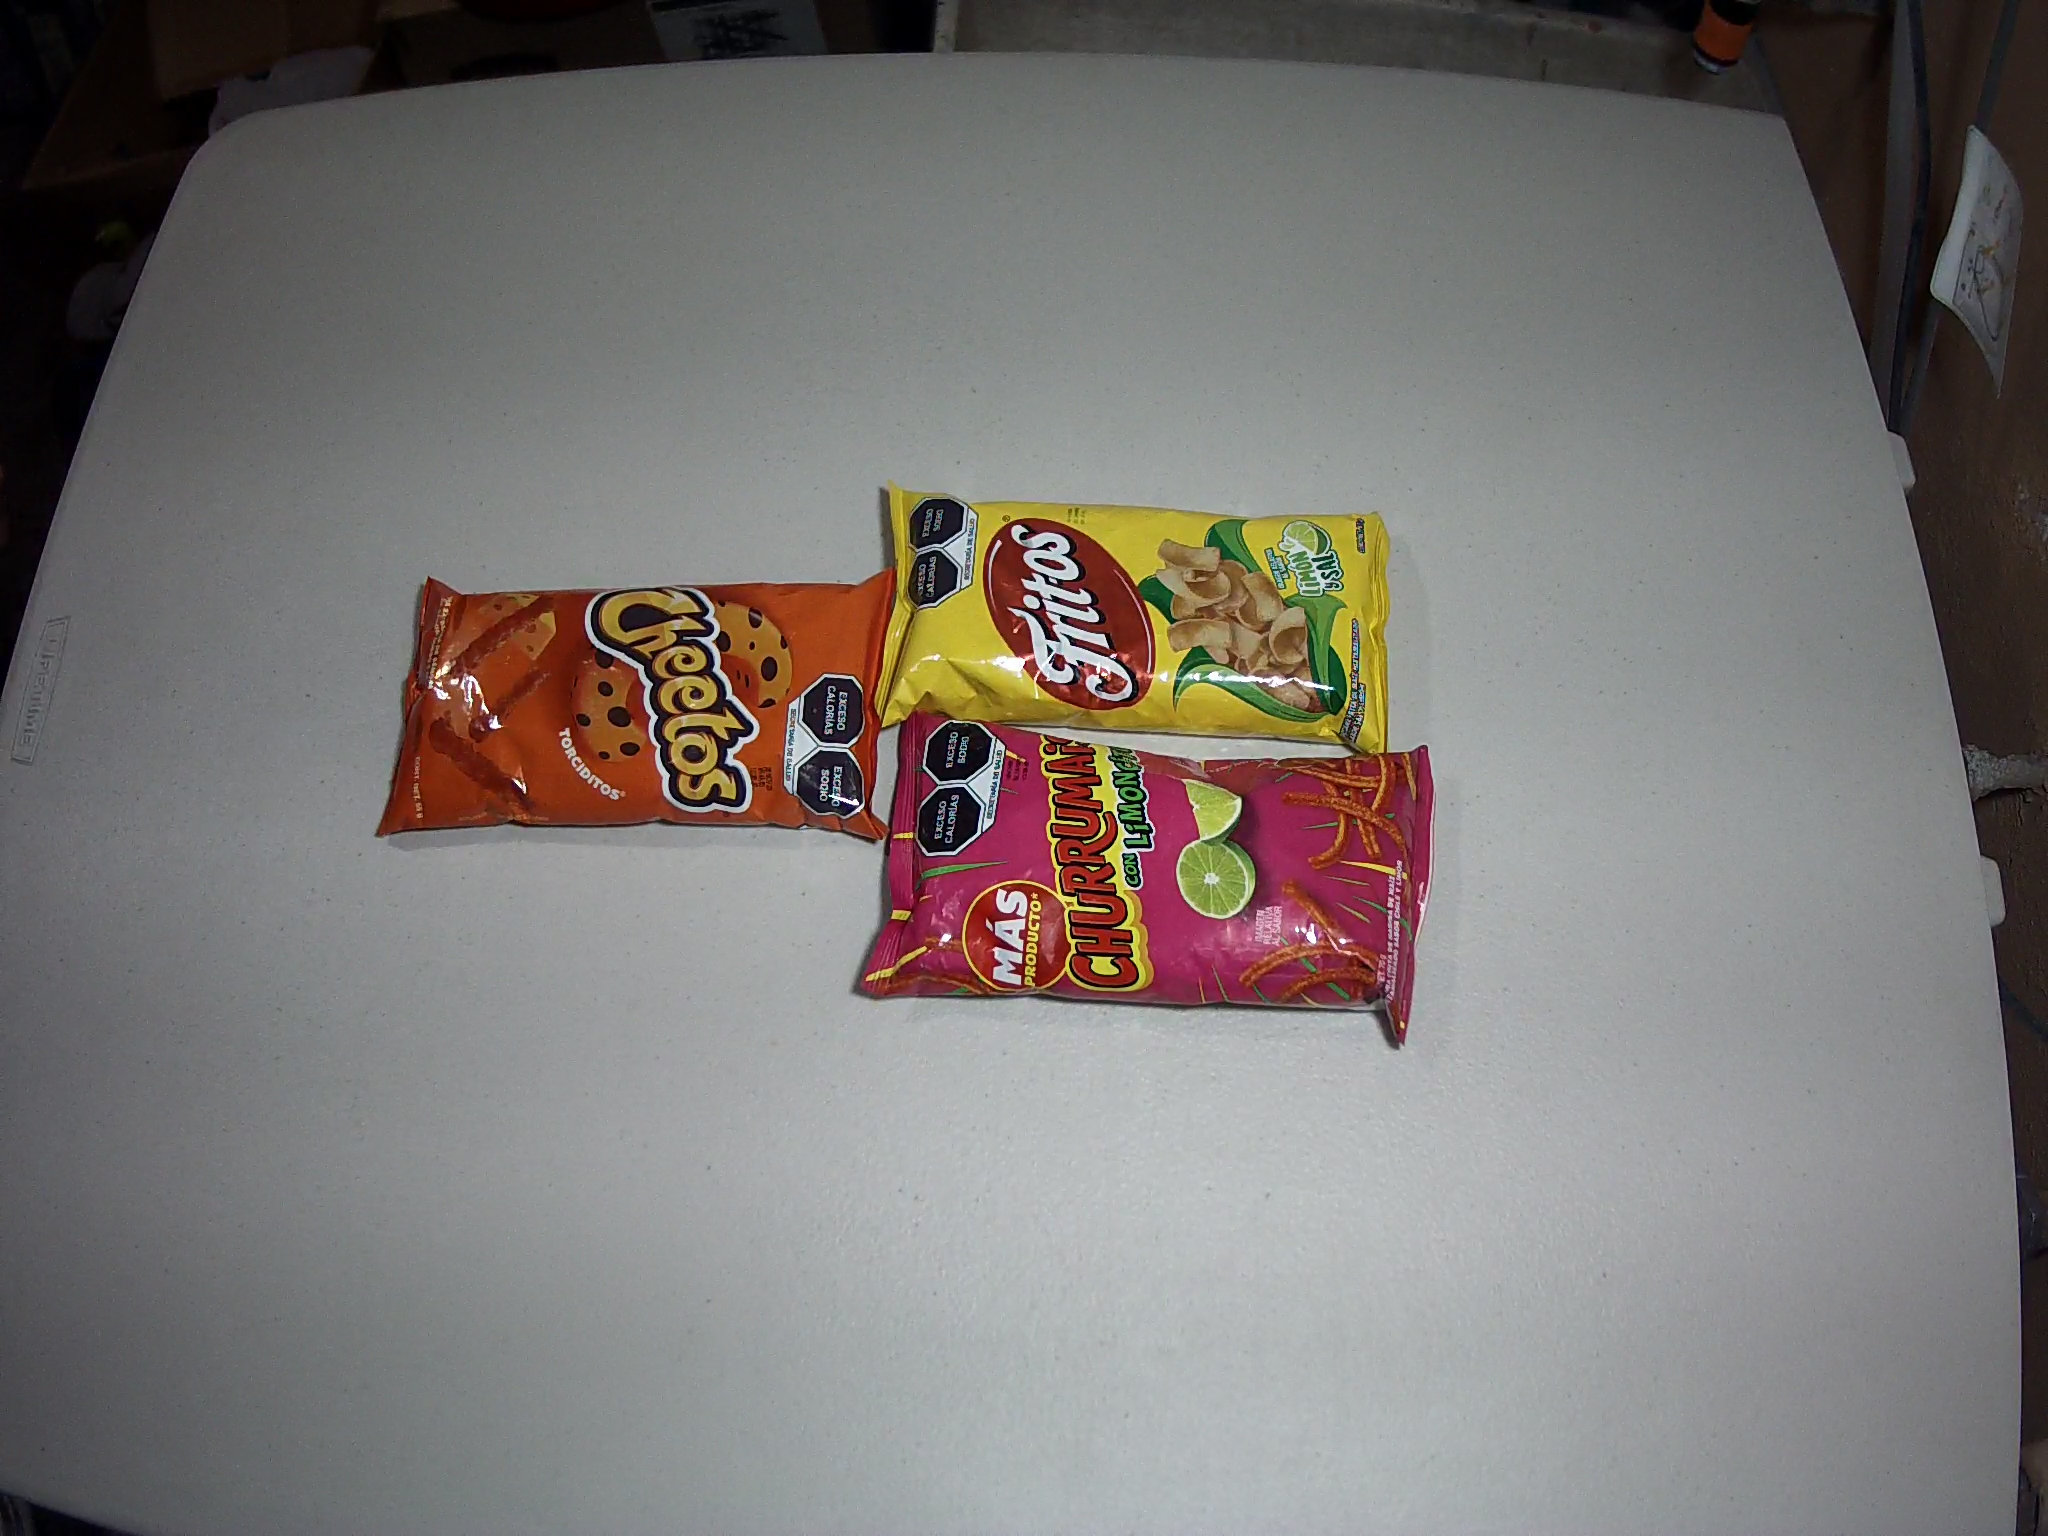CheetosTorciditos_55_F: (376, 570, 908, 845)
Churrumais_70_F: (856, 707, 1437, 1042)
FritosSalLimon_65_F: (872, 486, 1392, 766)
